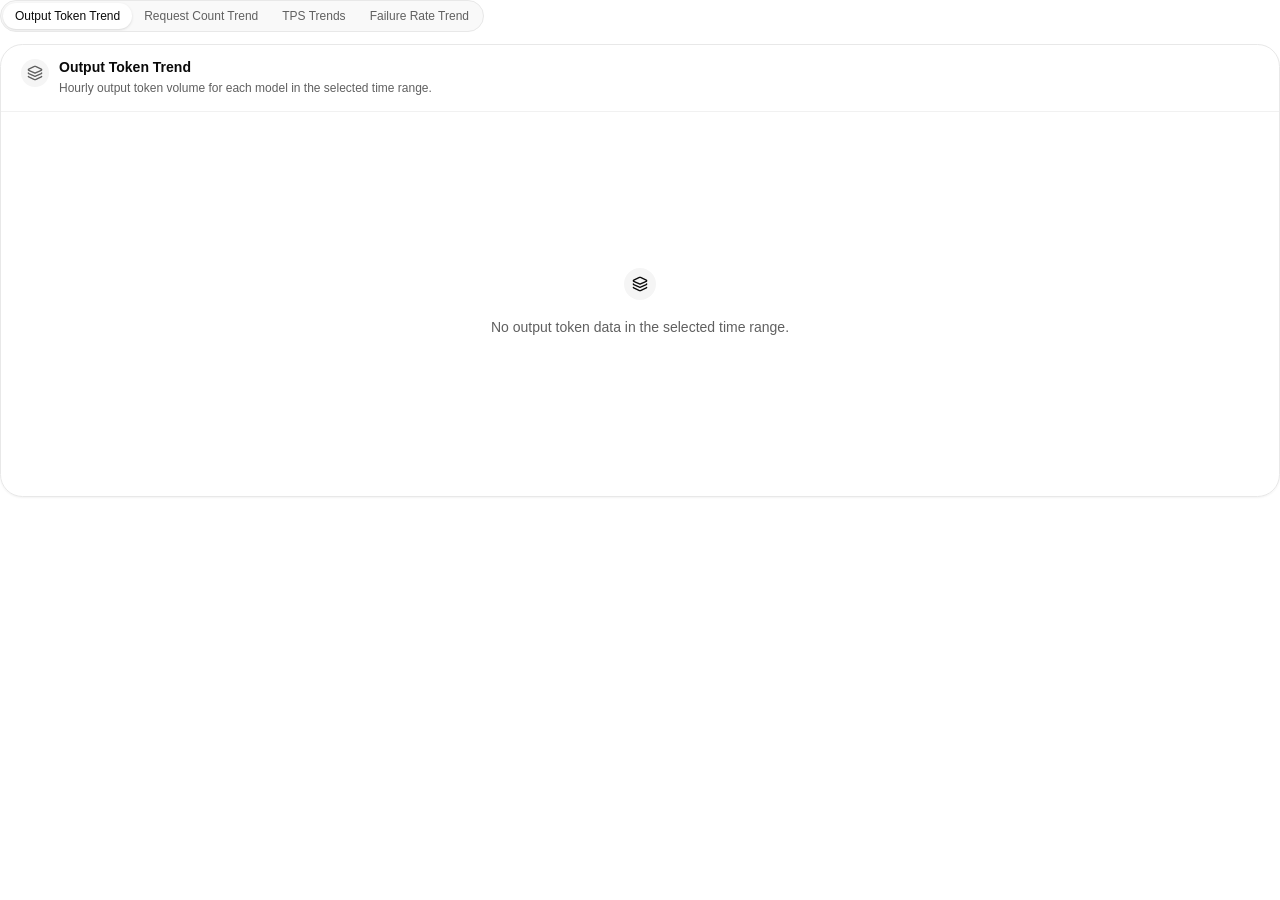
Test: ModelLogCharts metric panels › shows centered empty messages for all TPS panels without valid samples
Click the button "TPS Trends" at coordinates (314, 16), box [270,3,358,29]
(page scrolled)
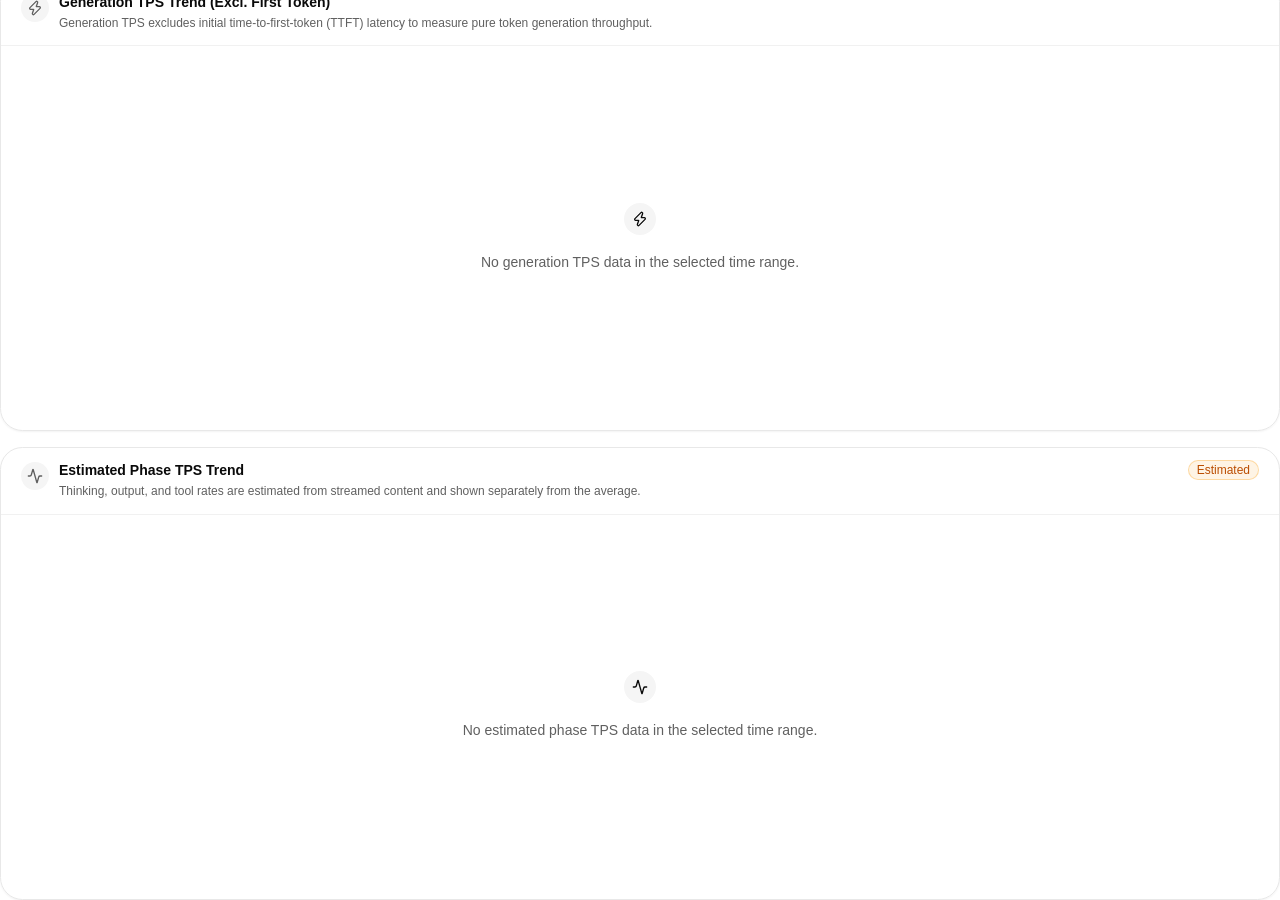
Expected: the text "No generation TPS data in the selected time range." is shown, [481,251,799,273]
Expected: the text "No estimated phase TPS data in the selected time range." is shown, [463,719,817,742]
Expected: the text "Estimated" is shown, [1188,460,1259,480]
